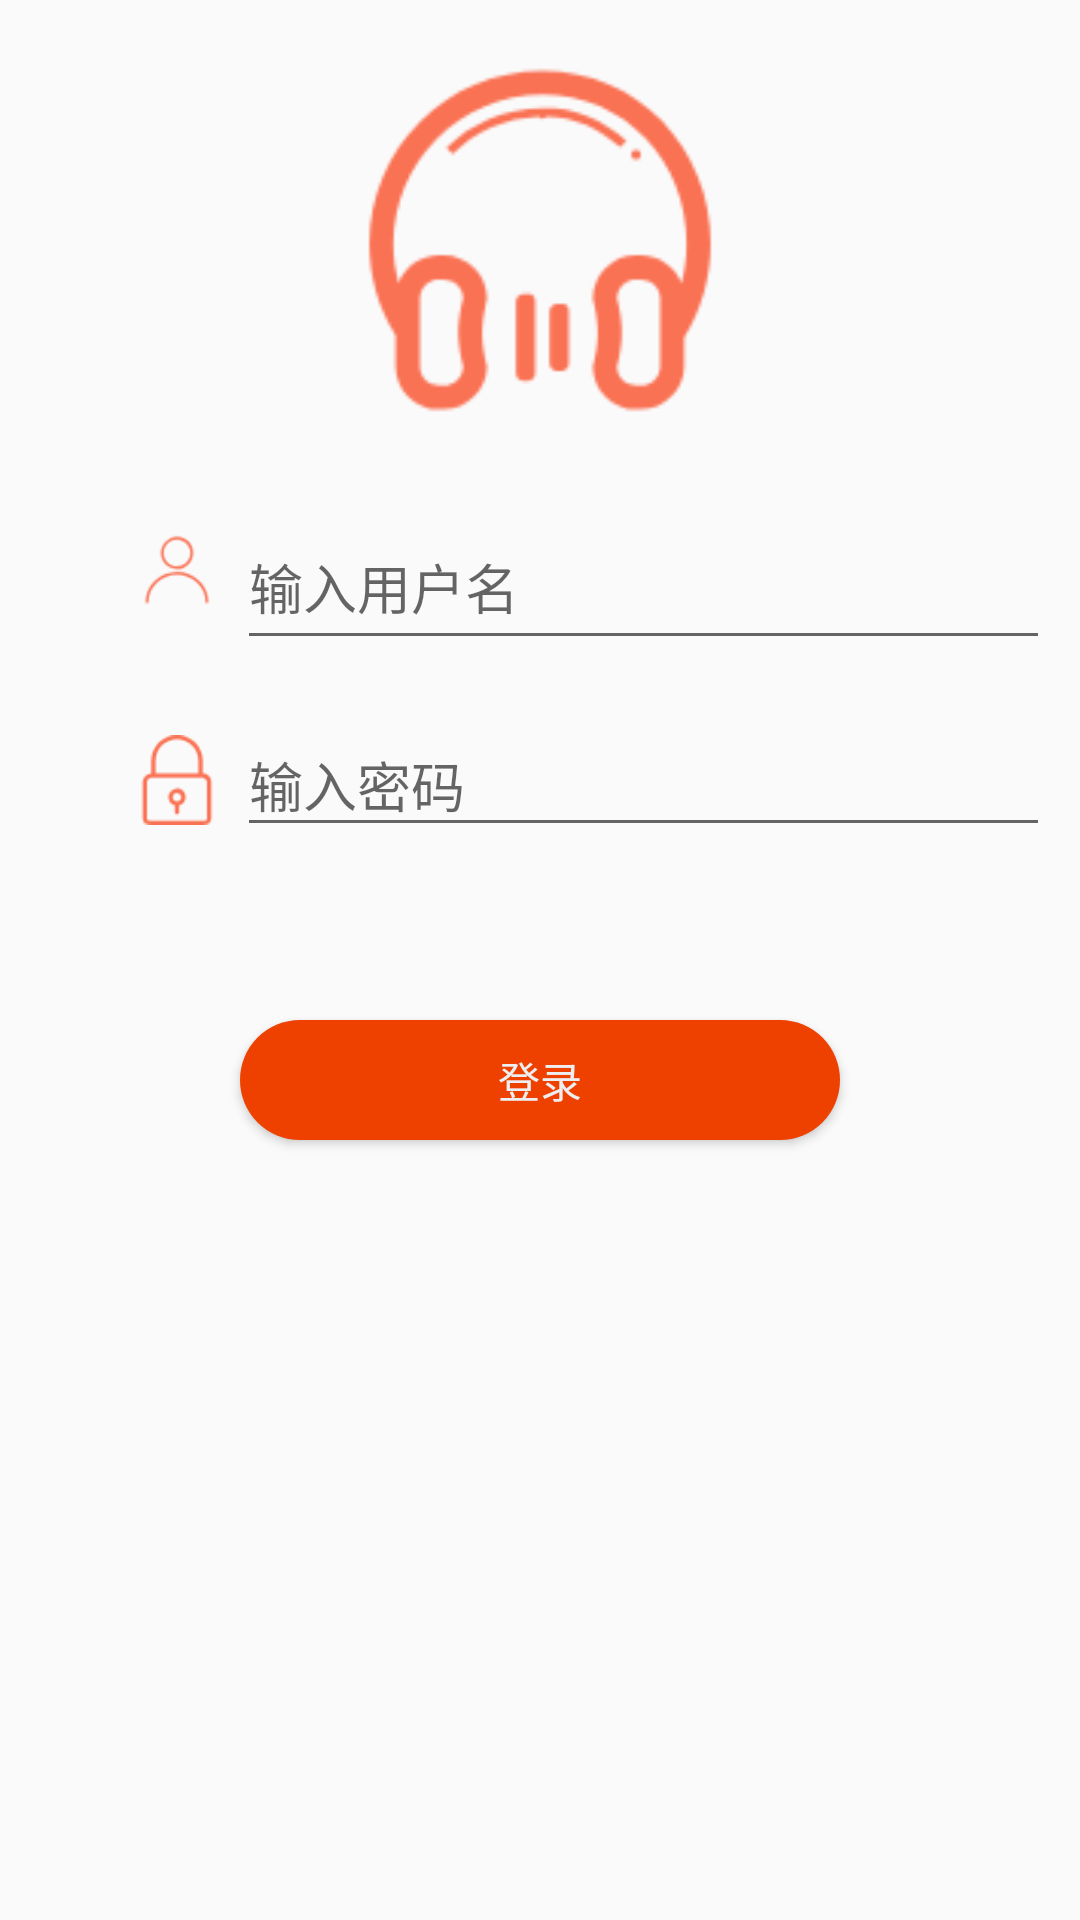

Icon bounding boxes for this 1080px x 1920px phone screenshot, format {"x1": x1, "y1": y1, "x2": x2, "y2": y2}:
password: {"x1": 141, "y1": 735, "x2": 213, "y2": 825}
user: {"x1": 145, "y1": 536, "x2": 209, "y2": 604}
